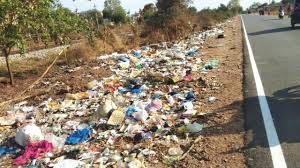garbage: (16, 100, 198, 168), (74, 77, 197, 148), (109, 50, 194, 142)
